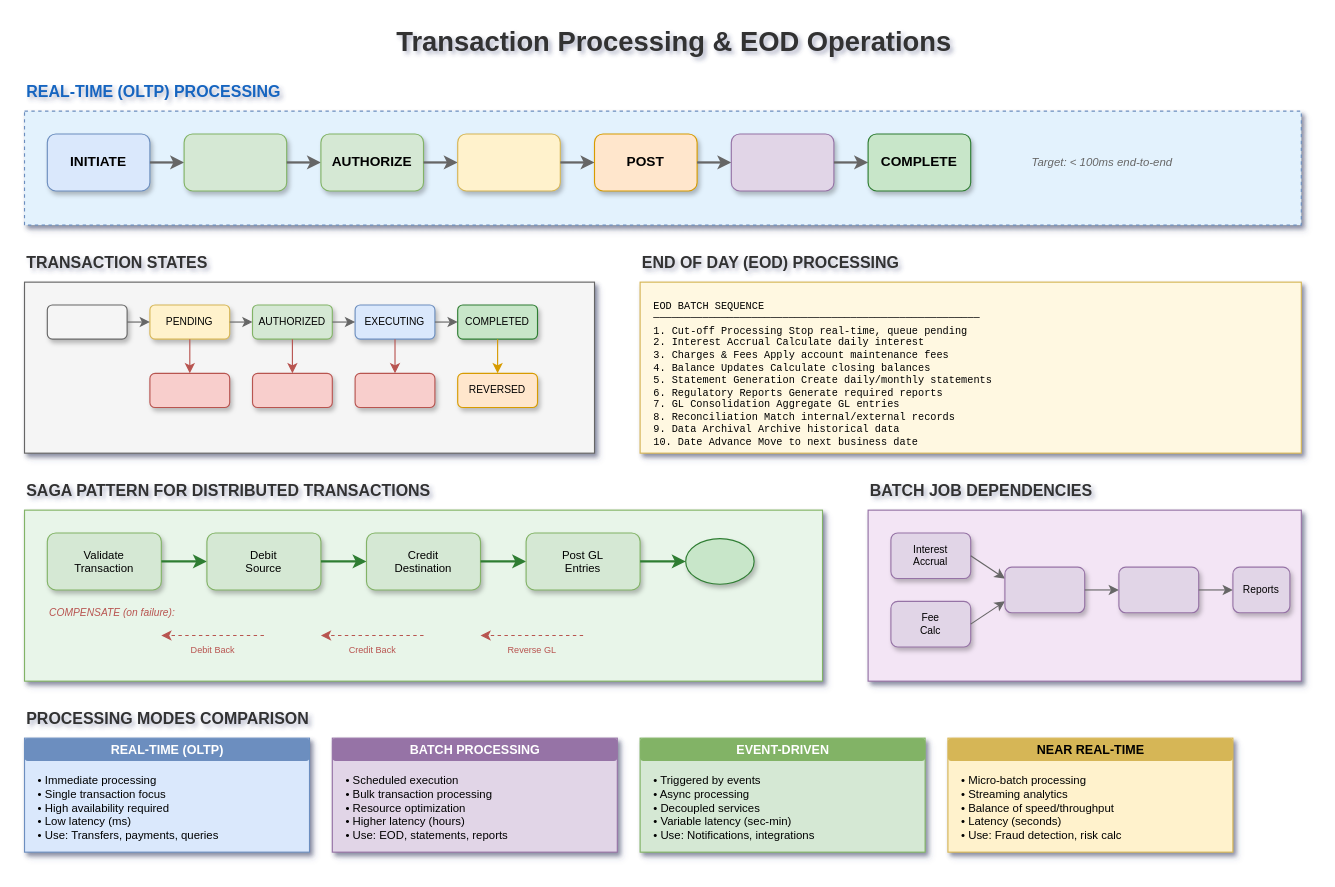
Image size: 1335x887. Some labels were removed from this diagram. Each missing label, with the centre of its shape:
Balance Update: the point at 1045,591
DECLINED: the point at 293,392
Done: the point at 720,562
EXECUTE: the point at 509,163
FAILED: the point at 395,392
GL Posting: the point at 1159,591
INITIATED: the point at 88,323
NOTIFY: the point at 783,163
REJECTED: the point at 190,392
VALIDATE: the point at 236,163
